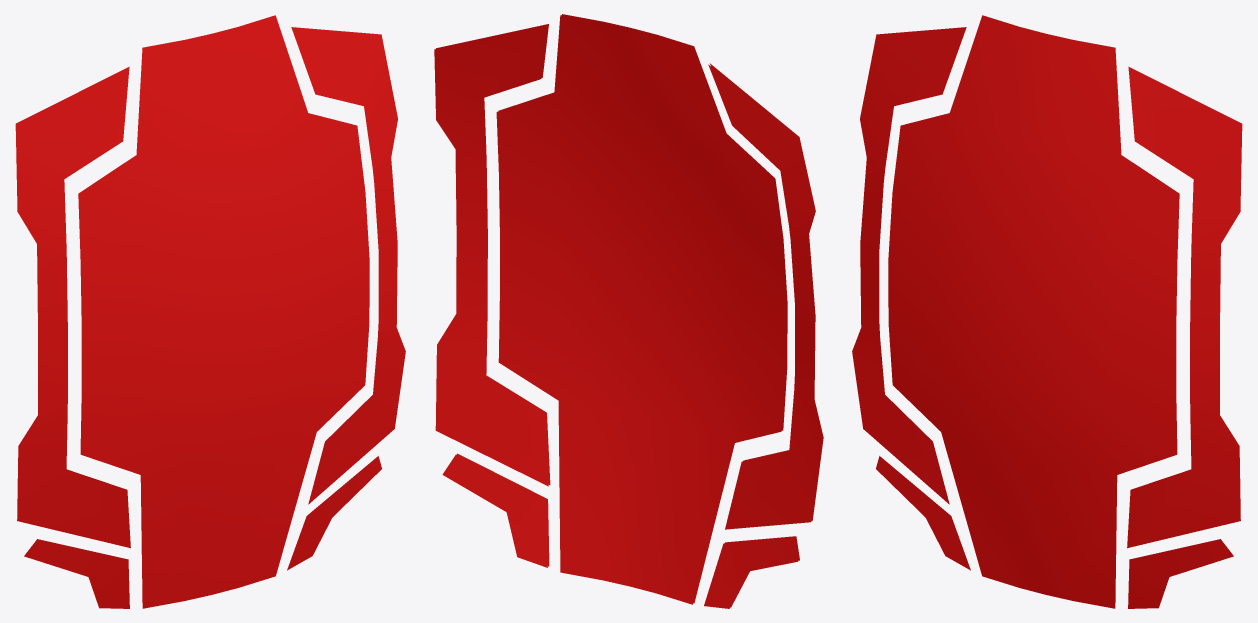
The model's file is DukeShieldFull.fbx.
The picture shows the model from 3 angles, left to right: view 1: azimuth 30°, elevation 25°; view 2: azimuth 150°, elevation 25°; view 3: azimuth 330°, elevation 25°; orthographic projection.
Parts seen in each view (by area): view 1: DukeShieldFront; view 2: DukeShieldBack, DukeShieldFront; view 3: DukeShieldFront.
Boxes of the visible parts, bbox=[...] form: DukeShieldFront: bbox=[15, 15, 405, 608]; DukeShieldBack: bbox=[434, 15, 821, 608]; DukeShieldFront: bbox=[436, 14, 823, 607]; DukeShieldFront: bbox=[852, 15, 1242, 608].
Bounding box in the file's own units: 33.54 × 46.4 × 6.26.
